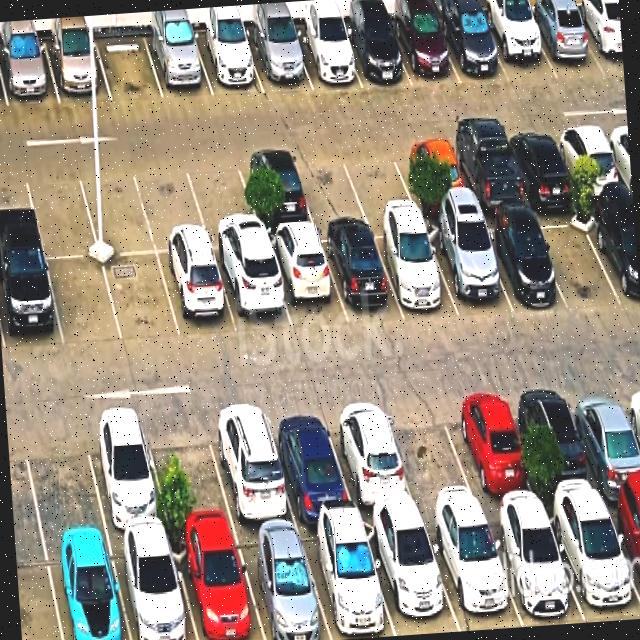empty: (380, 392, 482, 516), (142, 412, 235, 533), (20, 416, 106, 542), (531, 205, 623, 306), (184, 153, 263, 250), (76, 162, 156, 256), (134, 159, 210, 253), (23, 165, 99, 258), (103, 253, 180, 343), (47, 258, 122, 347), (291, 146, 367, 223), (340, 143, 417, 217), (94, 34, 163, 101)
occupied: (484, 508, 585, 627), (423, 512, 522, 631), (544, 500, 640, 622), (444, 387, 539, 510), (204, 402, 296, 528), (298, 521, 395, 640), (362, 519, 459, 635), (323, 399, 419, 516), (233, 528, 331, 640), (264, 404, 356, 523), (514, 383, 603, 505), (81, 413, 169, 535), (170, 531, 264, 640), (109, 534, 197, 640), (565, 380, 640, 499), (423, 219, 513, 317), (44, 538, 130, 640), (475, 215, 565, 312), (264, 229, 347, 331), (370, 223, 459, 317), (318, 225, 403, 323), (157, 251, 237, 338), (213, 248, 292, 333), (446, 134, 528, 212), (236, 150, 314, 229), (0, 256, 63, 352), (584, 203, 640, 307), (480, 10, 557, 84), (394, 138, 472, 211), (524, 9, 605, 79), (503, 128, 578, 203), (552, 124, 626, 197), (436, 12, 509, 84), (389, 13, 460, 87), (339, 20, 411, 88), (144, 32, 213, 99), (192, 32, 264, 96), (290, 26, 362, 89), (44, 37, 111, 104), (245, 29, 312, 92), (0, 40, 59, 107), (603, 495, 640, 600), (572, 5, 624, 74)
